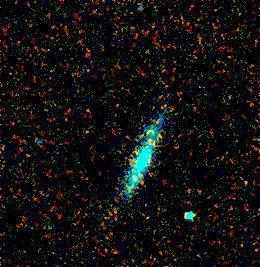star: (135, 115, 165, 145)
